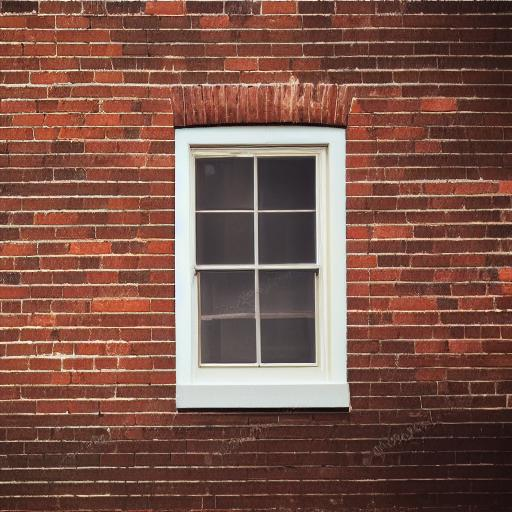Window: (173, 84, 354, 417)
